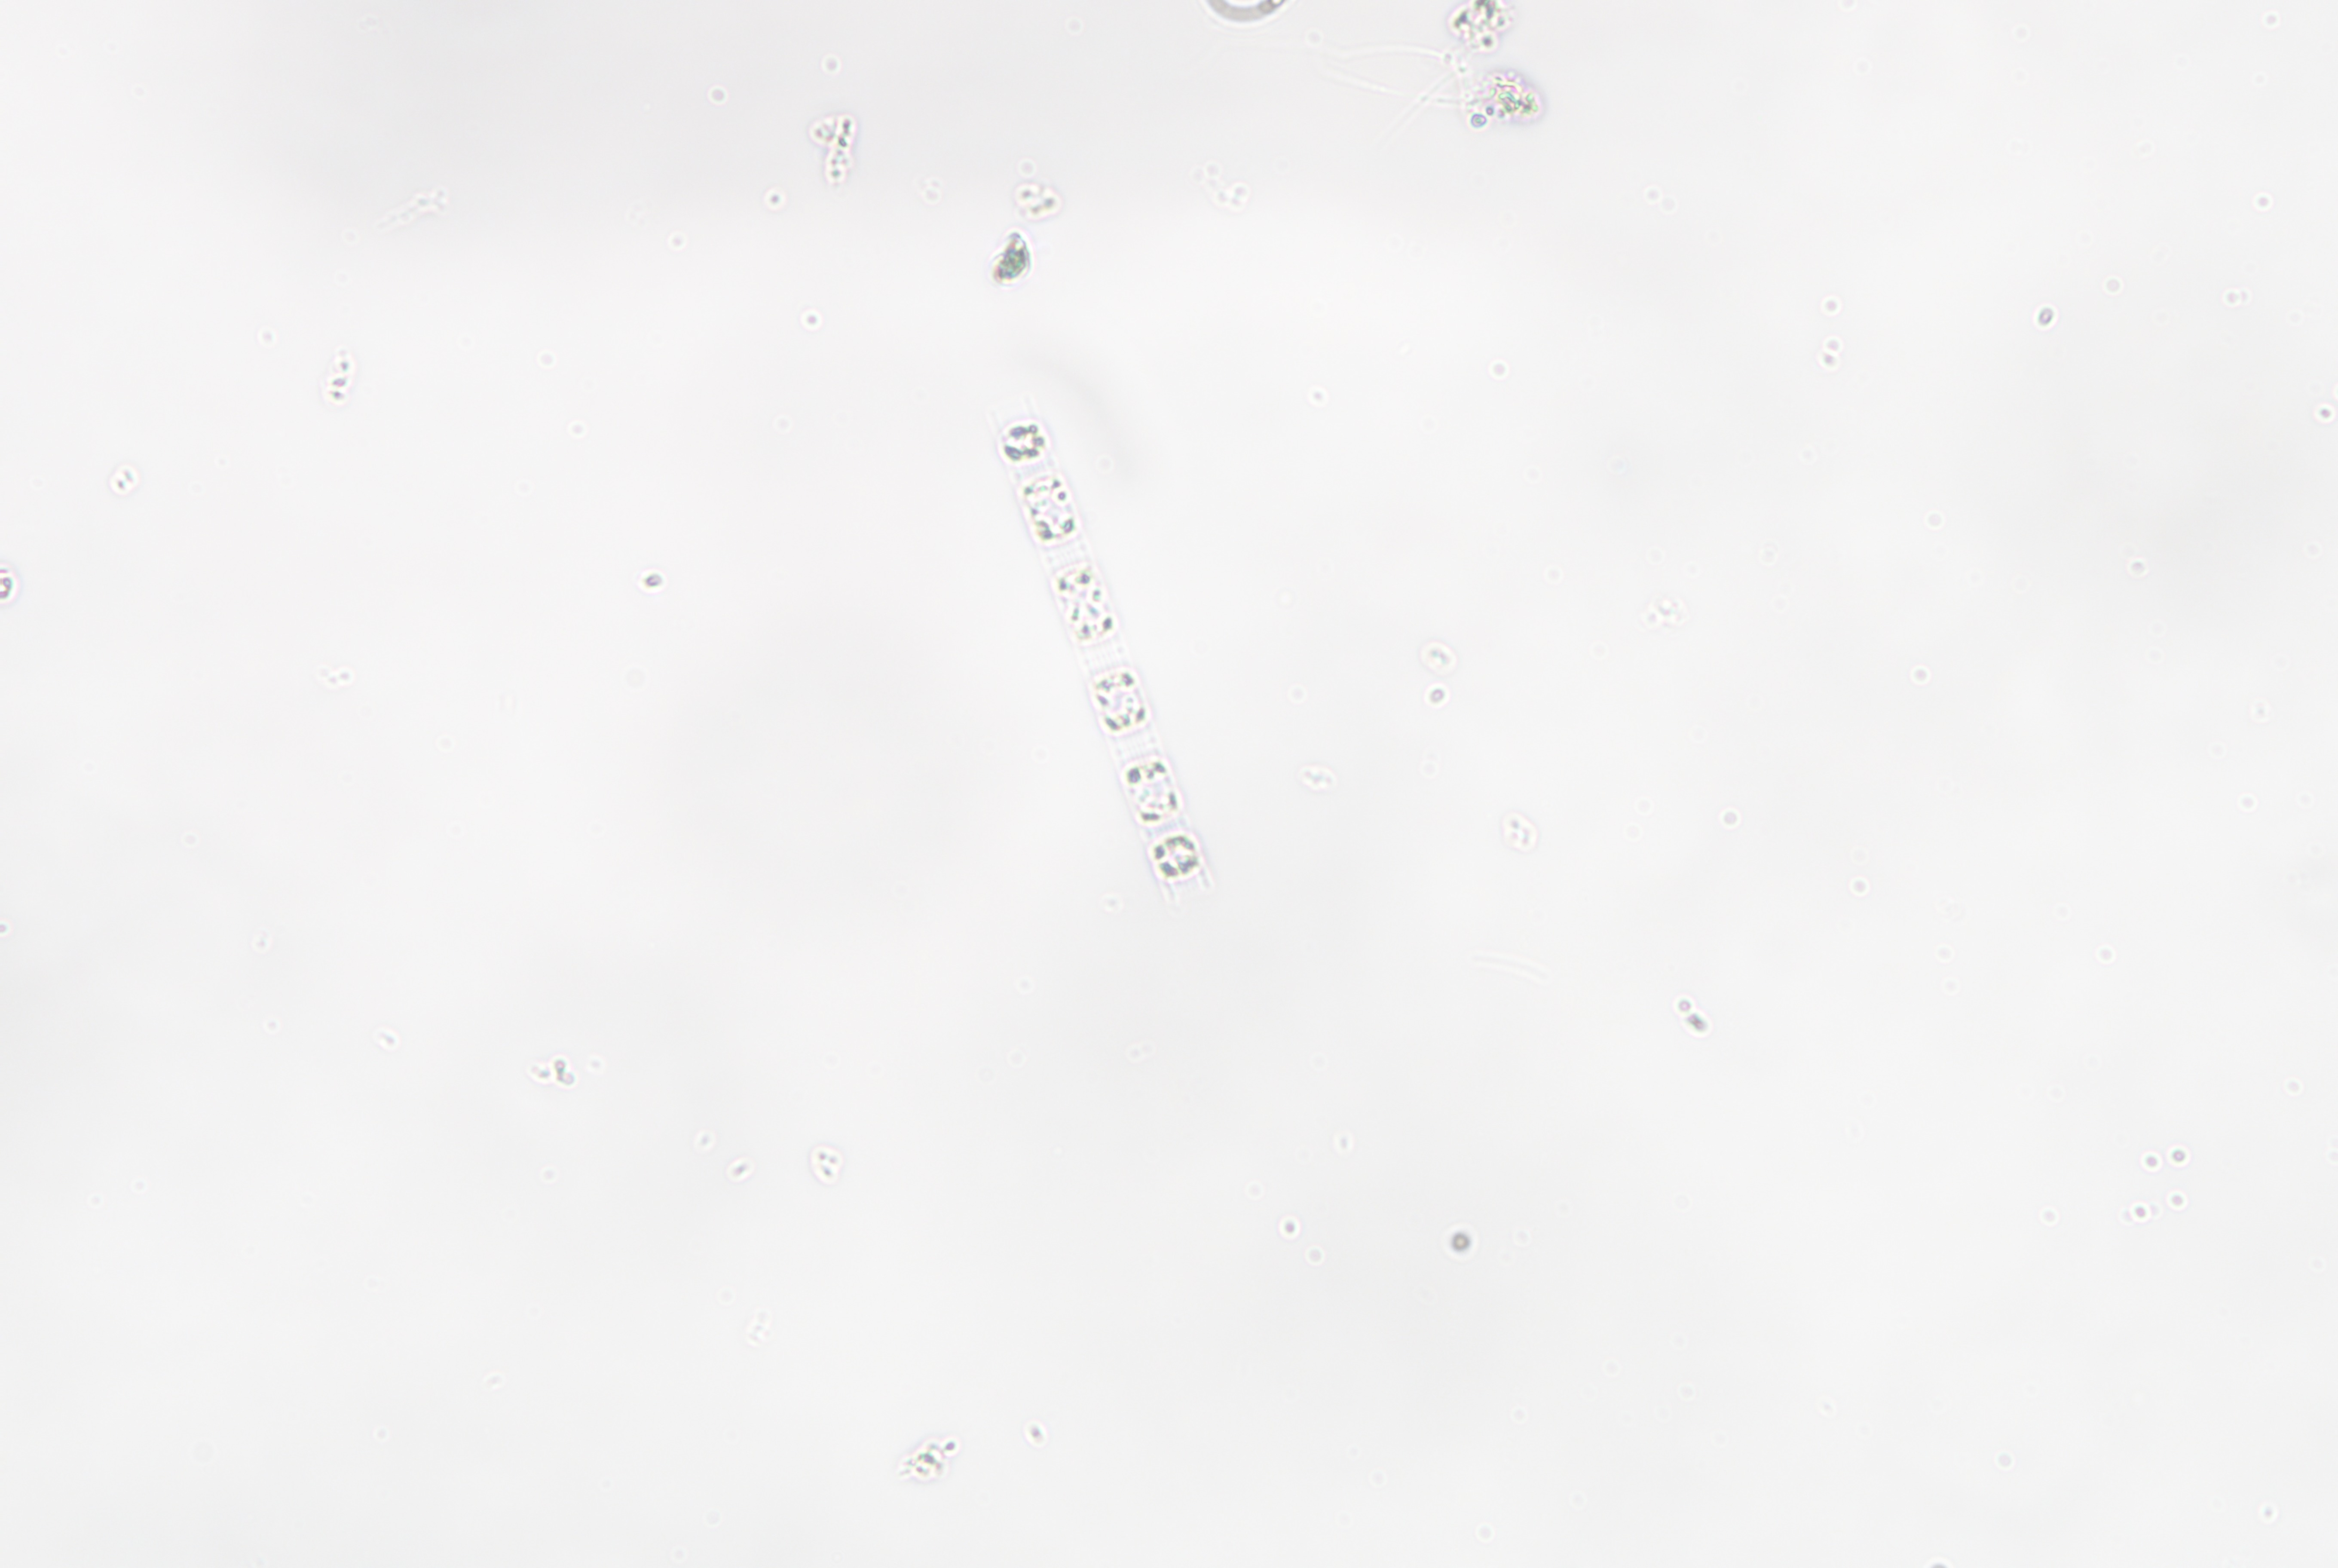skeletonema: (999, 406, 1208, 901)
